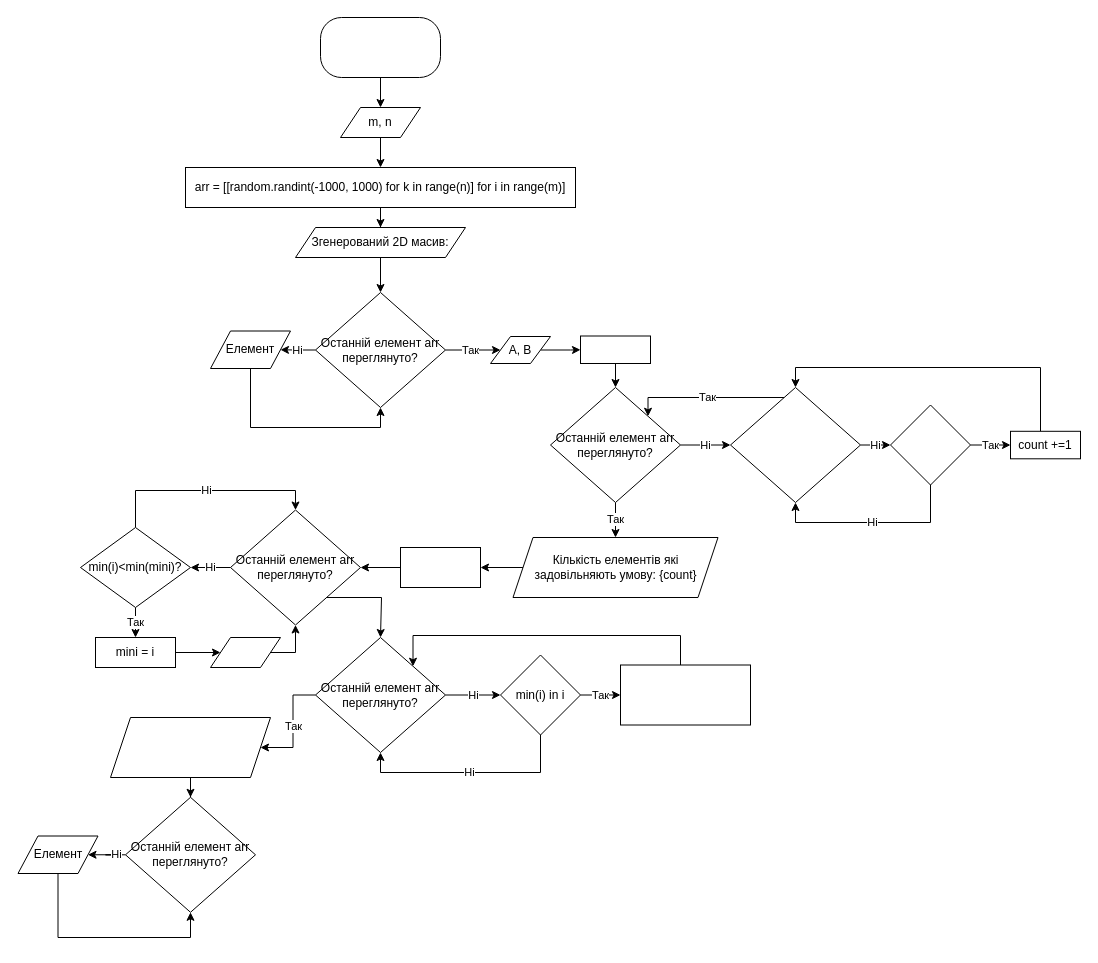
This 1098x963 diagram has some shape labels left out. Each missing label, with the box of its shape:
count = 0: (580, 335, 650, 364)
g%A==0 і g%B!=0?: (890, 404, 970, 485)
i = i.sort(reverse=True): (620, 664, 750, 725)
mini: (210, 636, 280, 668)
mini = arr[0]: (400, 546, 480, 588)
Оновлений 2D масив до Завдання 2:: (110, 716, 270, 778)
Останній елемент елементу arr переглянуто?: (730, 386, 860, 502)
Початок: (320, 16, 440, 78)
